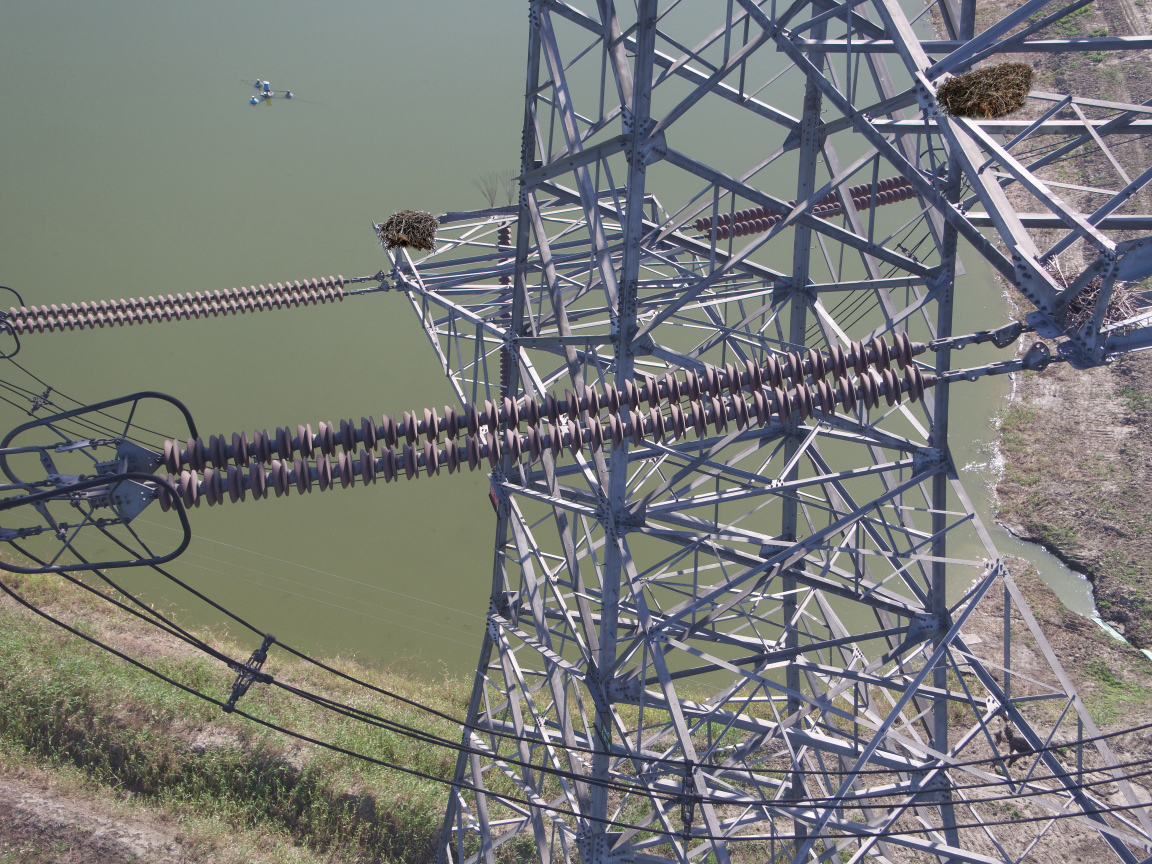nest: (935, 55, 1037, 123), (376, 209, 441, 257)
